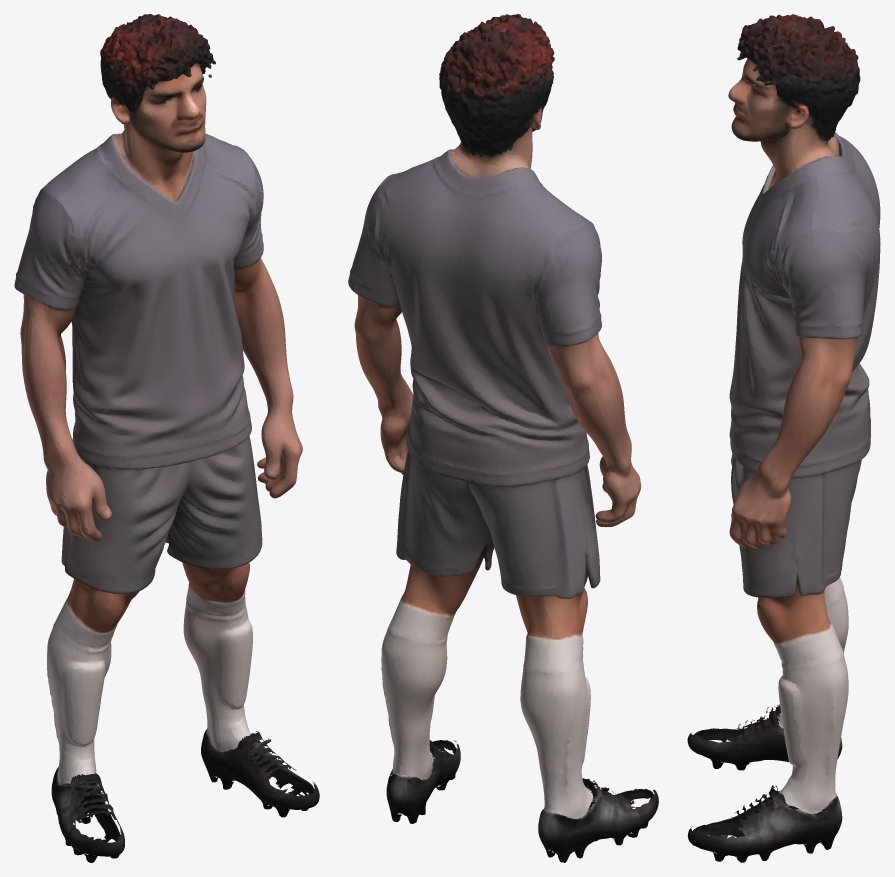
The picture shows the model from 3 angles, left to right: view 1: azimuth 30°, elevation 25°; view 2: azimuth 150°, elevation 25°; view 3: azimuth 270°, elevation 25°; orthographic projection. The views are drawn at different scales.
Visible parts, largest first — view 1: model; view 2: model; view 3: model.
Part boxes in pixels (bbox=[...]): model: bbox=[14, 14, 319, 862]; model: bbox=[348, 14, 658, 862]; model: bbox=[687, 14, 880, 862].
Size of the model in its own units: 0.334 by 1 by 0.222.
Materials: 1 (1 with a texture image).
